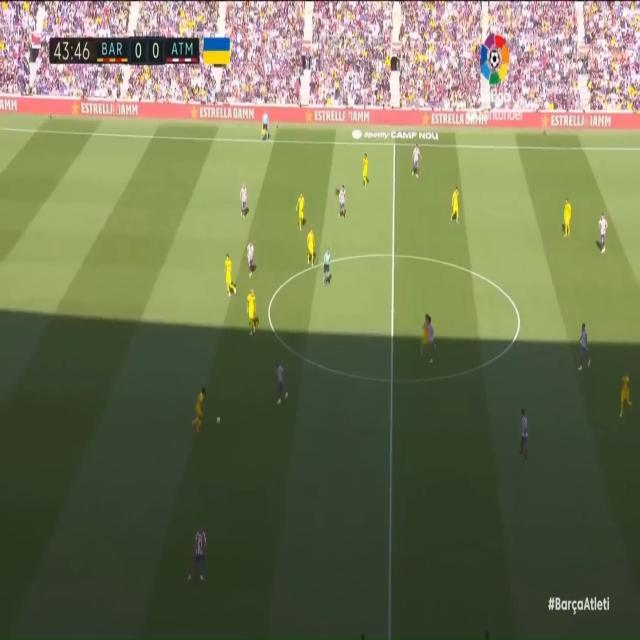ball: (214, 414, 222, 426)
player: (190, 520, 211, 588), (270, 356, 292, 409), (618, 366, 636, 420), (576, 319, 593, 374), (223, 248, 238, 306), (190, 390, 207, 441), (418, 309, 431, 366), (247, 283, 259, 337), (305, 227, 319, 273), (518, 402, 528, 463), (426, 317, 437, 371), (338, 184, 352, 223), (295, 187, 306, 235), (599, 209, 609, 260), (562, 197, 573, 242), (410, 141, 423, 179), (237, 182, 249, 223), (449, 185, 462, 222), (360, 151, 371, 190), (246, 236, 256, 277)
referee: (320, 245, 332, 287), (262, 107, 270, 144)
